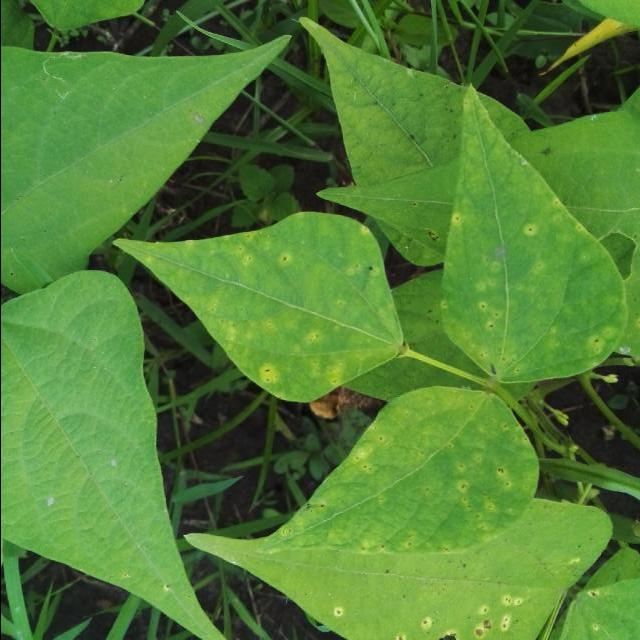embun tepung: (0, 71, 618, 631)
